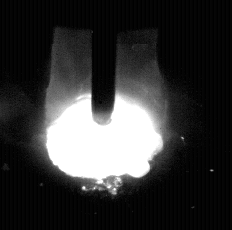arame: (92, 0, 116, 125)
poca: (47, 0, 160, 230)
